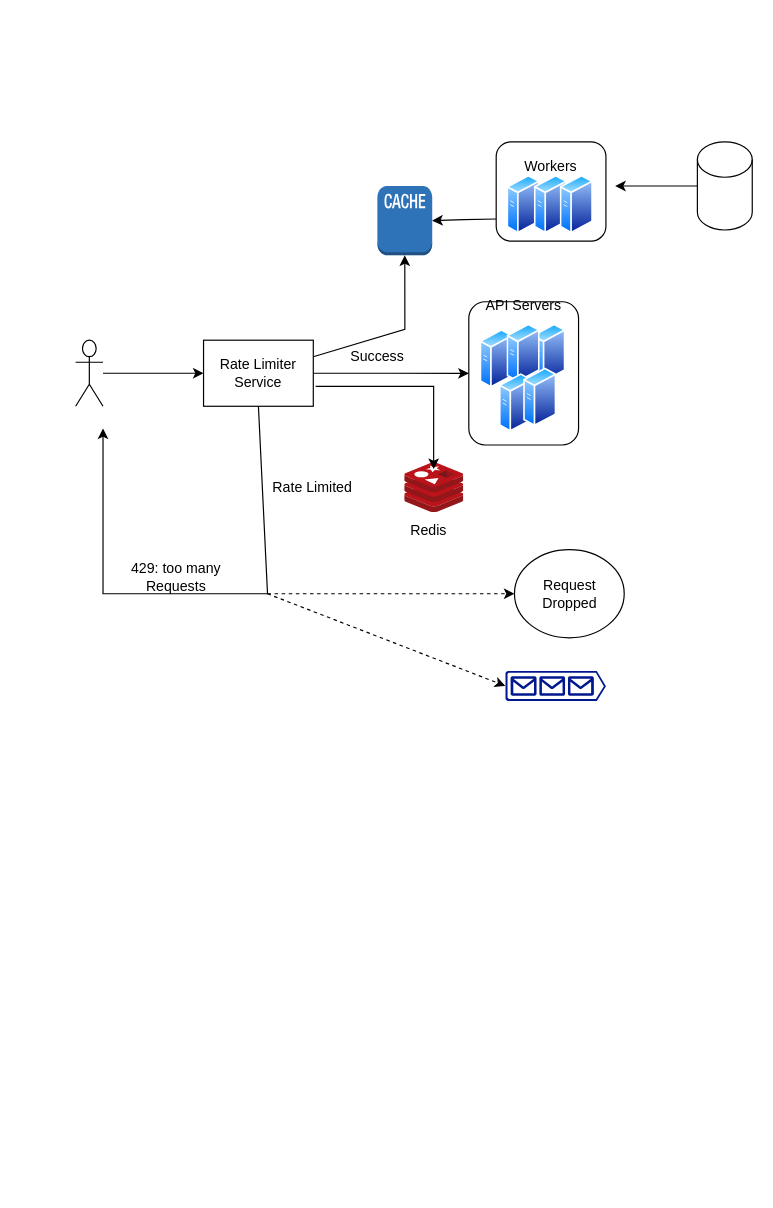
The diagram is 773 pixels wide and 1208 high, and some of its shapes have lost their labels. The shapes that lost their labels are listed below. From the top down, each one's centre as x and y in pixels, then its label:
the point at 724,185: Rules DB
the point at 88,372: client
